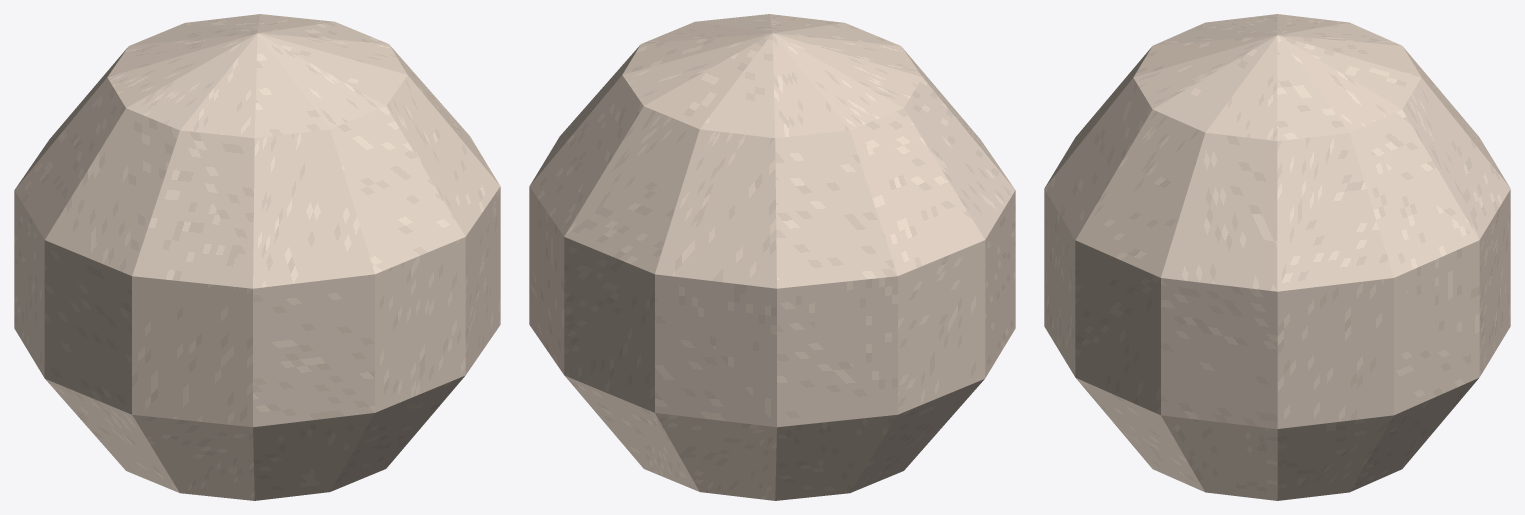
Rendered from pearl.glb.
3 views of the same model, side by side, from view 1: azimuth 30°, elevation 25°; view 2: azimuth 150°, elevation 25°; view 3: azimuth 270°, elevation 25° (orthographic).
Visible parts, largest first — view 1: block_iridescent pearl; view 2: block_iridescent pearl; view 3: block_iridescent pearl.
Part boxes in pixels (bbox=[...]): block_iridescent pearl: bbox=[14, 14, 500, 500]; block_iridescent pearl: bbox=[529, 14, 1015, 500]; block_iridescent pearl: bbox=[1044, 14, 1510, 500].
Size of the model in its own units: 0.0343 by 0.0345 by 0.0328.
Materials: 1 (1 with a texture image).
